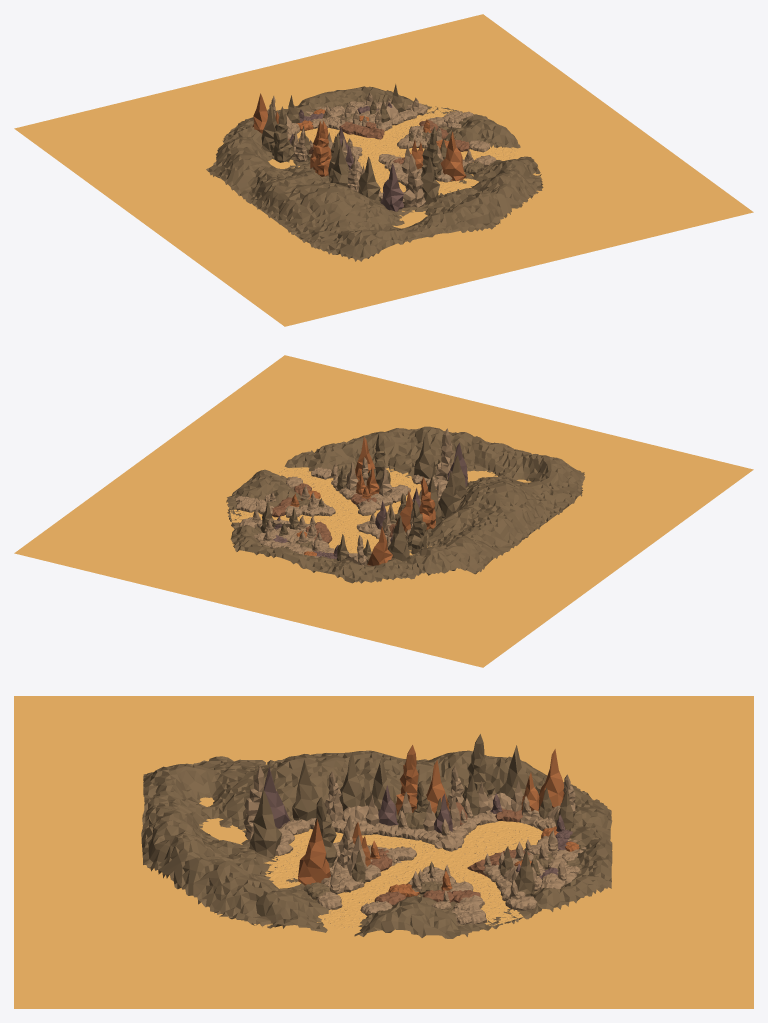
File: карта5  доработака.fbx
3 views of the same model, one above another, from view 1: azimuth 30°, elevation 25°; view 2: azimuth 150°, elevation 25°; view 3: azimuth 270°, elevation 25° (orthographic). The views are drawn at different scales.
Visible parts, largest first — view 1: Плоскость.011, Плоскость.010, Плоскость.006, Cube.153, Cube.530, Cube.152, высокий камень.302, высокий камень.300, высокий камень.299, Cube.533, высокий камень.301; view 2: Плоскость.011, Плоскость.010, Плоскость.006, Cube.153, высокий камень.301, высокий камень.112, Cube.152, высокий камень.116, Cube.530; view 3: Плоскость.011, Плоскость.010, Плоскость.006, высокий камень.301, высокий камень.302, высокий камень.299, Cube.152, Cube.153, высокий камень.112, Cube.533, высокий камень.114, Cube.530 (+5 smaller).
Part boxes in pixels (x1,y1,x2,y2): Плоскость.011: (14,14,753,326); Плоскость.010: (206,86,543,261); Плоскость.006: (297,106,519,195); Cube.153: (270,106,294,162); Cube.530: (403,154,425,207); Cube.152: (311,121,331,176); высокий камень.302: (440,131,466,181); высокий камень.300: (380,163,403,211); высокий камень.299: (358,156,380,201); Cube.533: (420,126,442,179); высокий камень.301: (421,155,439,204); Плоскость.011: (14,355,753,667); Плоскость.010: (226,426,584,583); Плоскость.006: (230,467,436,553); Cube.153: (408,499,427,554); высокий камень.301: (414,432,436,478); высокий камень.112: (438,470,461,518); Cube.152: (419,477,435,530); высокий камень.116: (388,516,409,560); Cube.530: (435,428,453,480); Плоскость.011: (14,696,753,1008); Плоскость.010: (141,750,612,938); Плоскость.006: (264,821,541,929); высокий камень.301: (249,789,281,857); высокий камень.302: (298,819,330,885); высокий камень.299: (292,759,319,820); Cube.152: (395,745,418,815); Cube.153: (462,734,494,798); высокий камень.112: (339,752,364,810); Cube.533: (315,797,337,867); высокий камень.114: (539,749,564,807); Cube.530: (243,766,263,841).
Size of the model in its own units: 61932 by 8016 by 61932.
